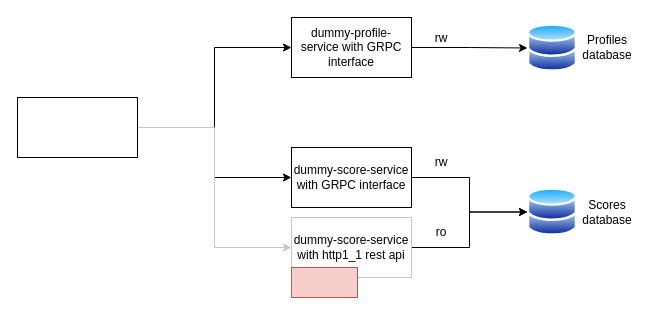
Image size: 655x315. Some labels were removed from this diagram. Here are the shapes that lost their labels. From the top down, the box of each, then its label:
(16, 96, 138, 158): dummy-gateway
(290, 266, 358, 298): DISABLED BY DEFAULT
